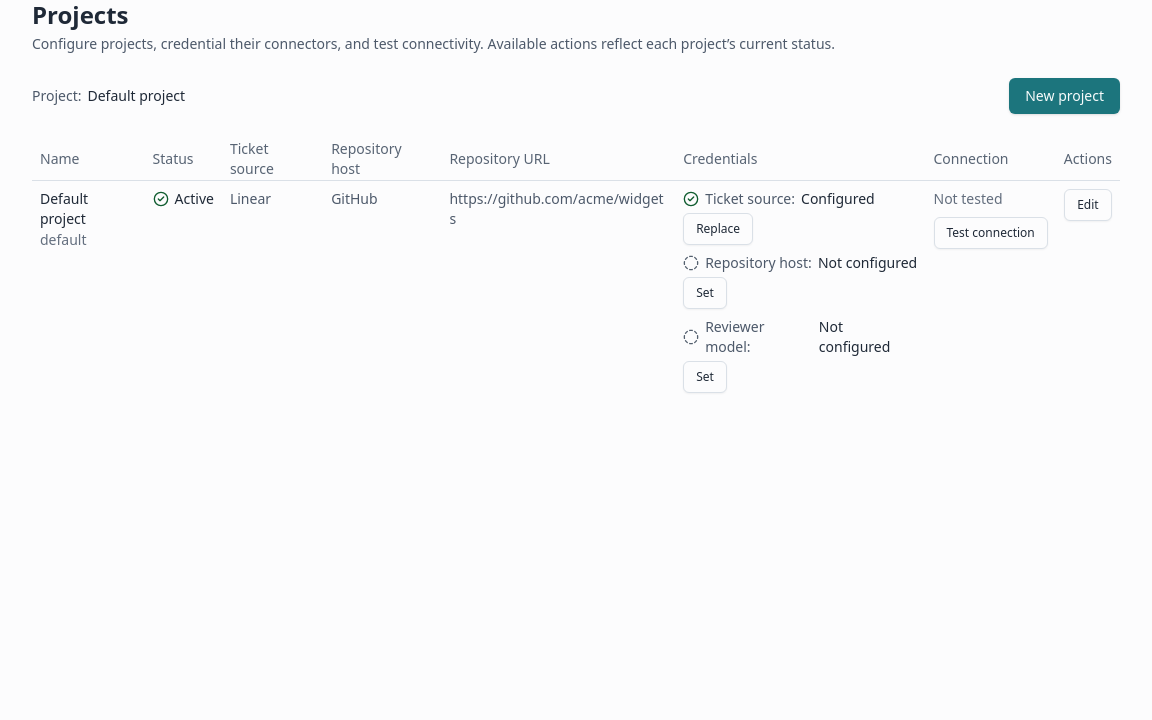
Scenario: ProjectsScreen › AC3 — row "Edit" opens the prefilled edit form
What coordinates should you click on to do the following:
click the button with test id "project-edit-button"
I would click on:
 (1088, 205)
Its box is [1064,189,1112,221].
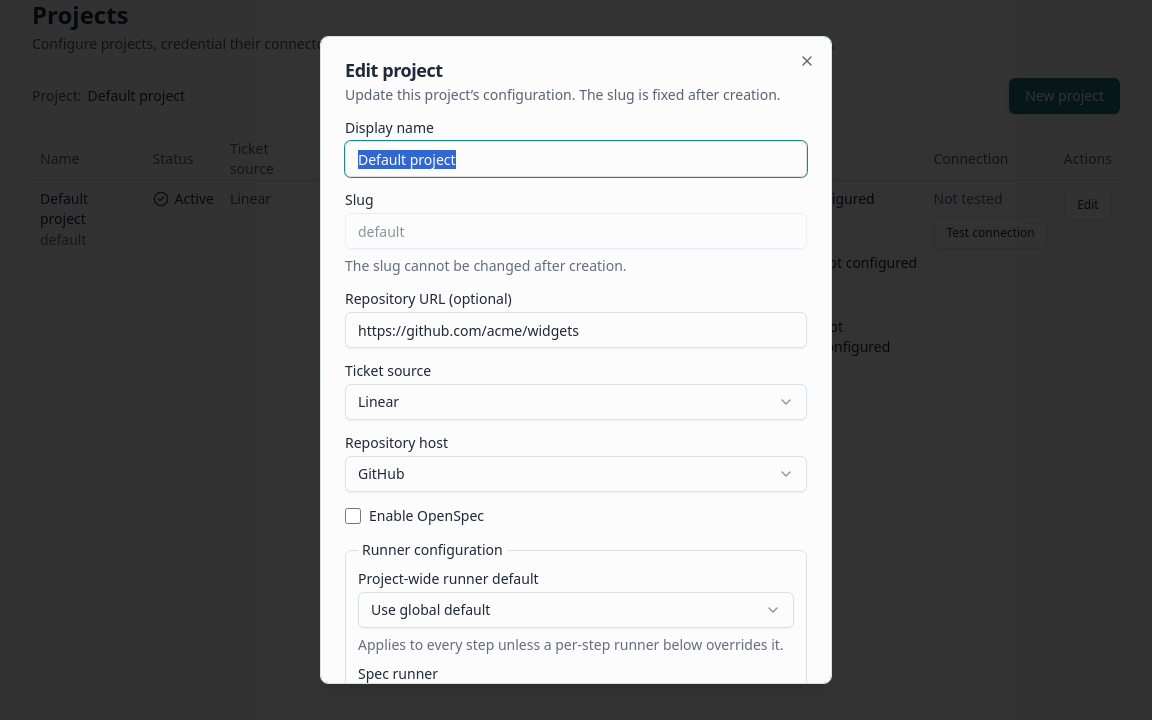
Expected: the dialog with test id "project-form-dialog" is shown, [320,36,832,684]
Expected: the field with test id "project-name-input" holds "Default project", [345,141,807,177]
